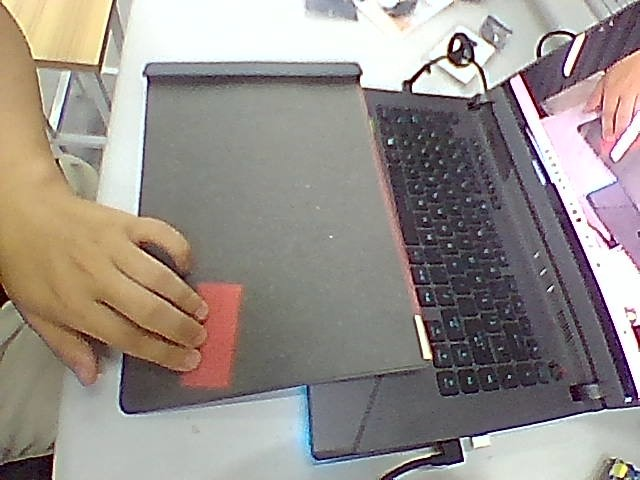card: (181, 282, 243, 388)
